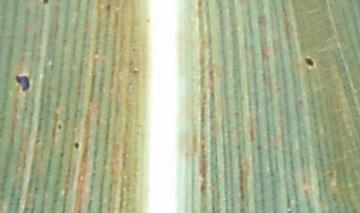tarspot: (15, 74, 31, 93), (304, 54, 316, 67), (74, 140, 80, 150), (106, 2, 112, 10), (57, 123, 63, 130), (42, 1, 50, 4)
